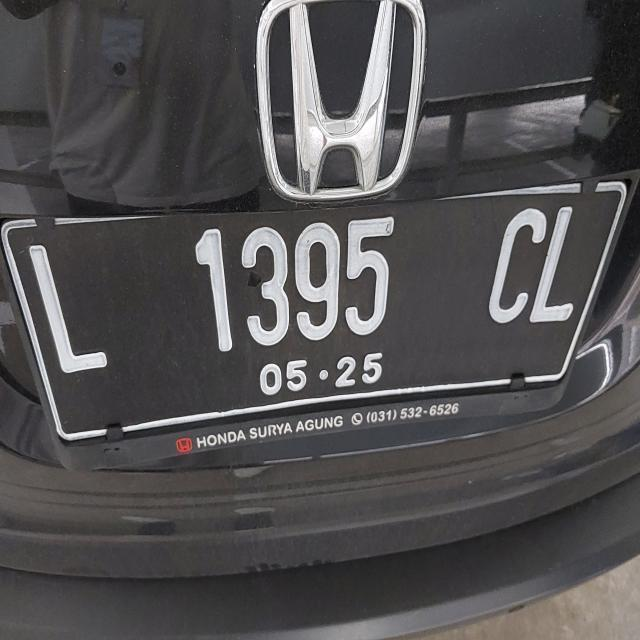1: (188, 226, 242, 362)
3: (243, 226, 293, 353)
5: (343, 217, 395, 336)
9: (293, 225, 343, 342)
C: (486, 207, 544, 320)
L: (20, 238, 111, 386), (533, 206, 580, 335)
